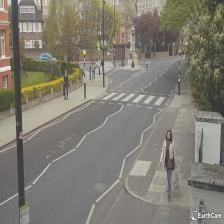person: (160, 130, 177, 198)
